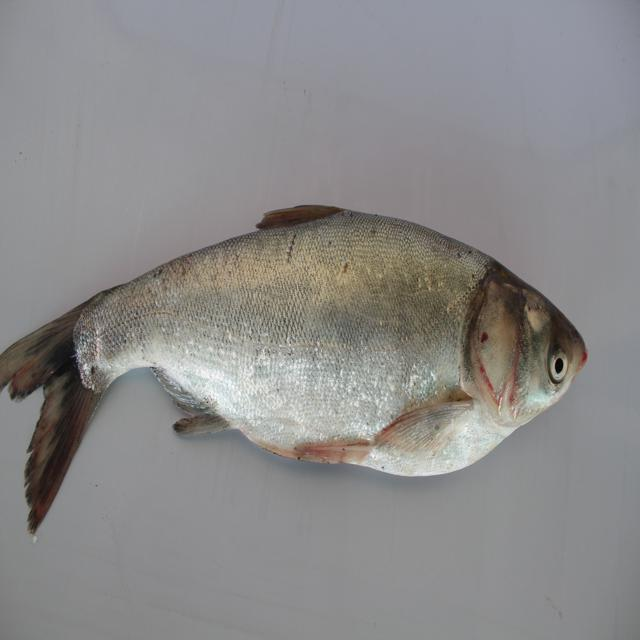SilverCarp: (5, 212, 587, 526)
